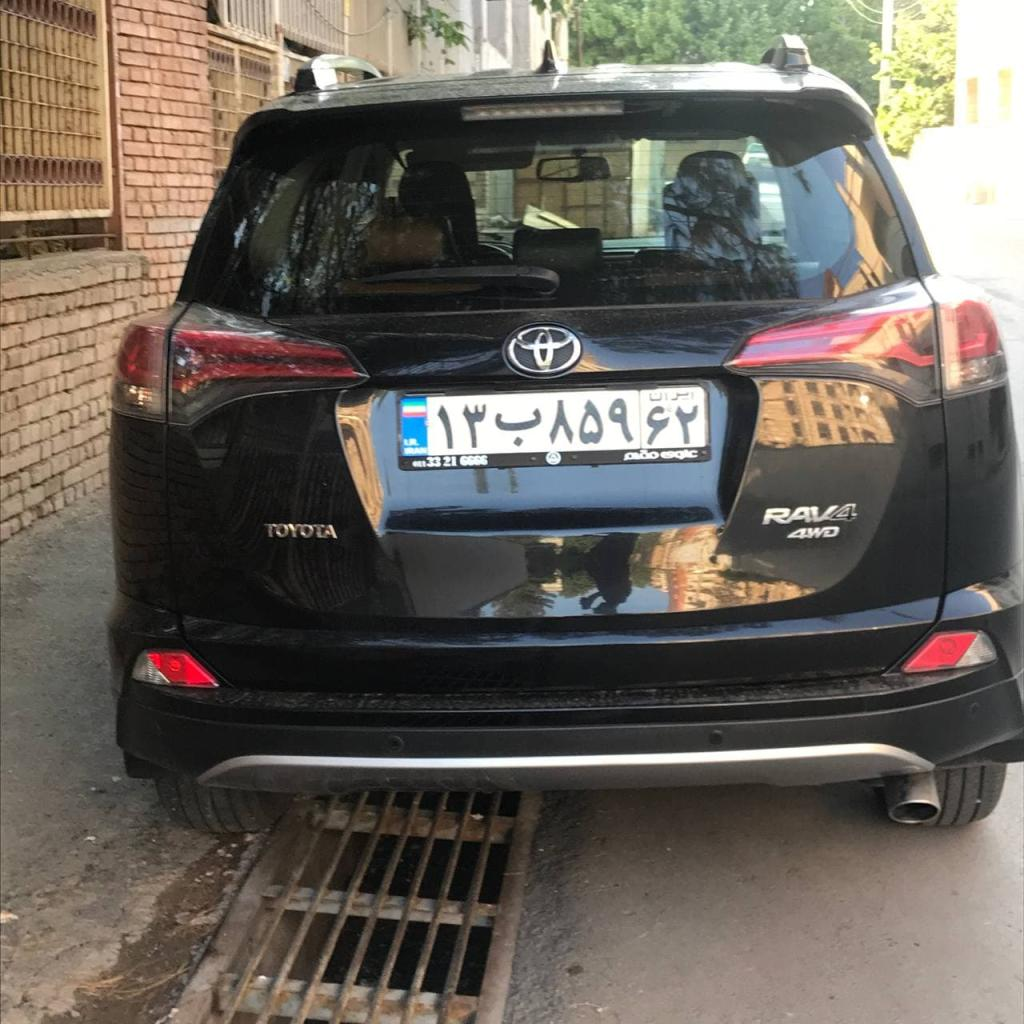Plates: (400, 385, 708, 456)
